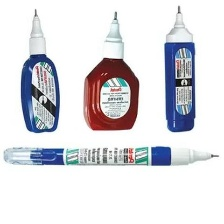correction_fluid: (82, 10, 142, 131), (17, 8, 62, 137), (0, 144, 223, 169), (162, 3, 198, 135)
